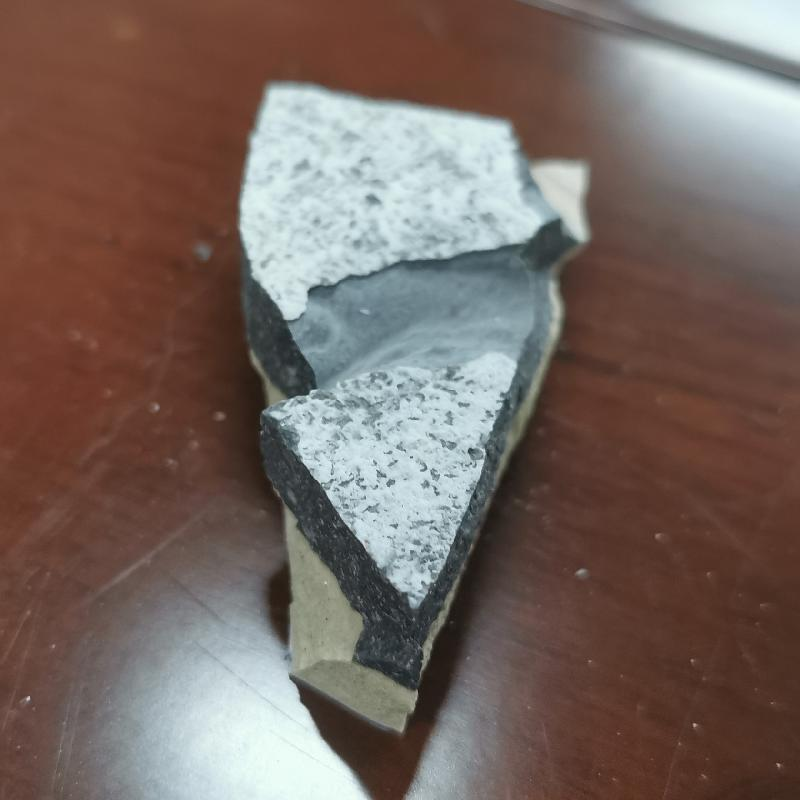tile: (229, 72, 592, 737)
